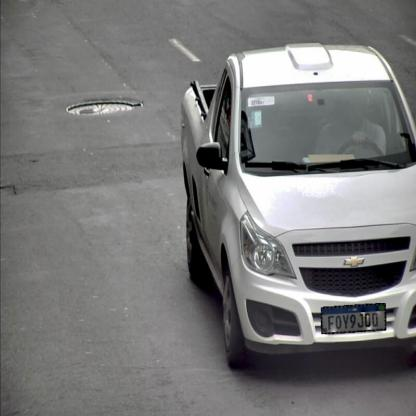PlacaM: (321, 303, 386, 334)
